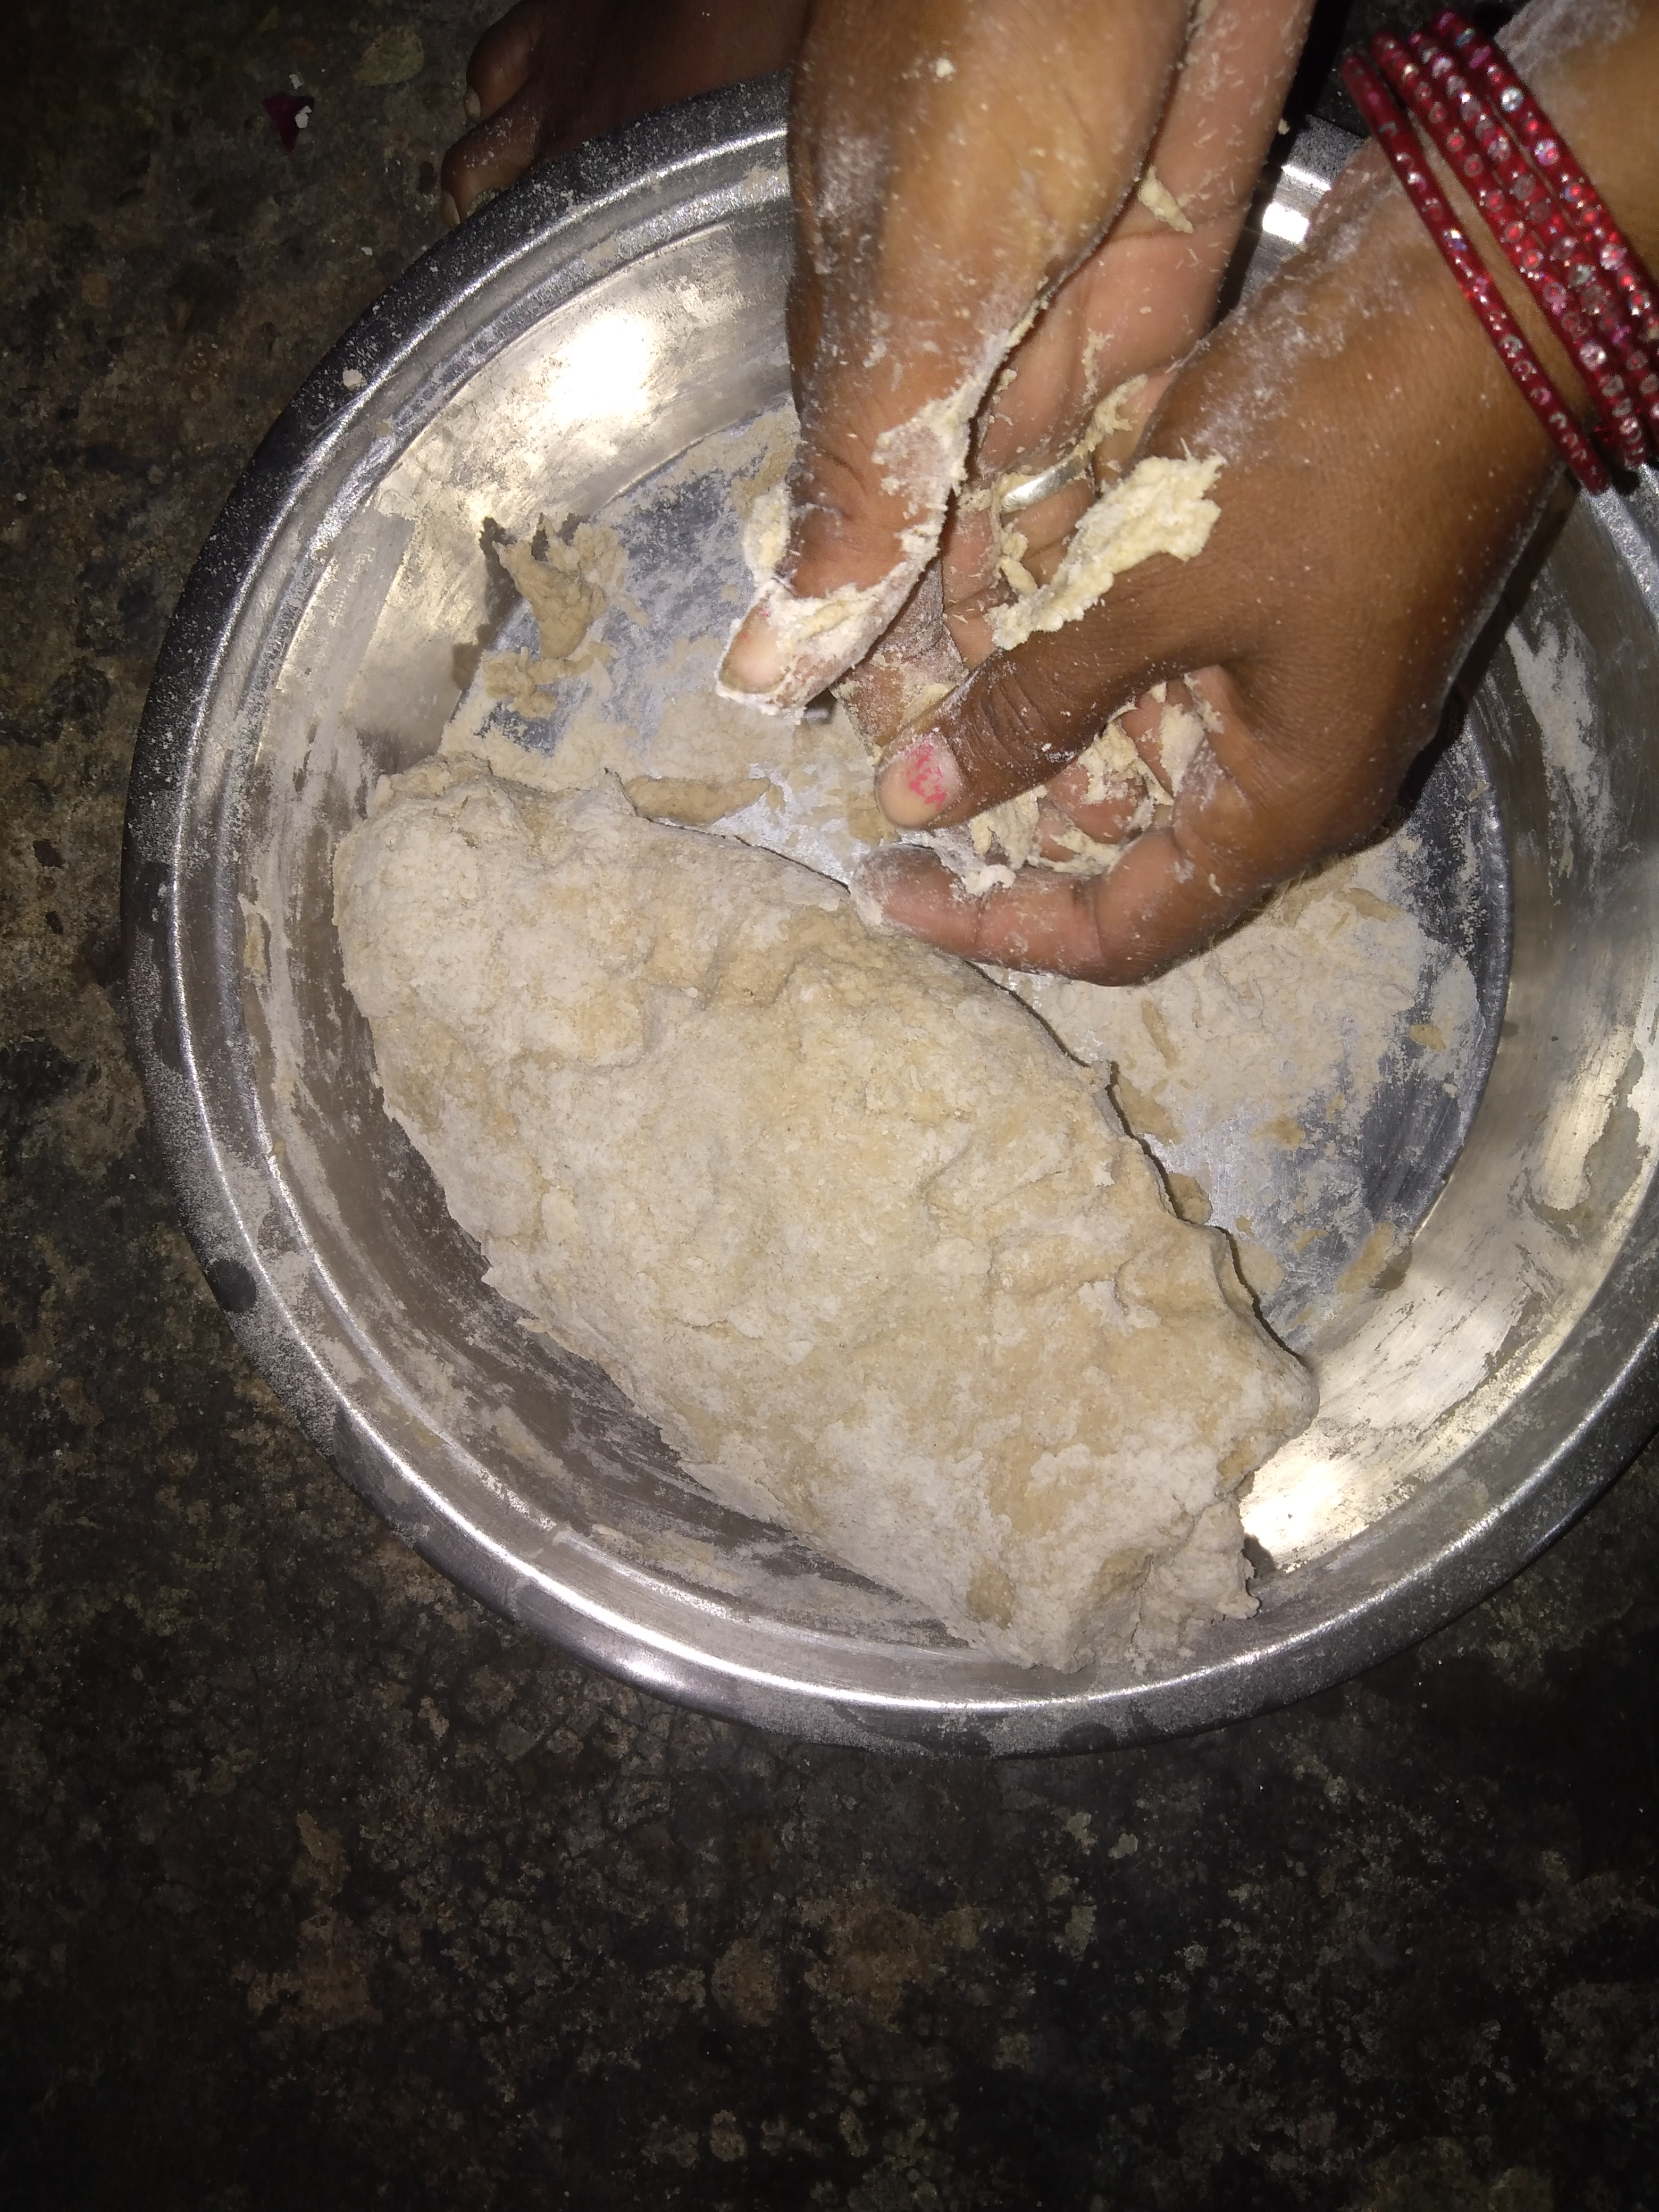food: (240, 308, 1647, 1688)
